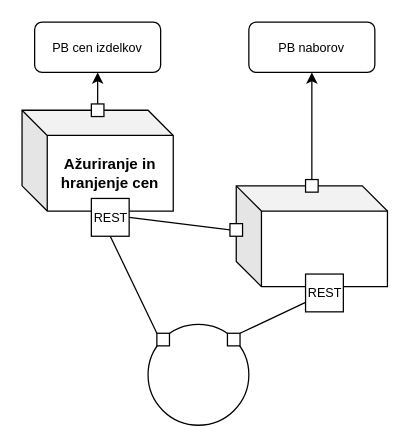
Image size: 410x447. Some labels were removed from this diagram. Each missing label, with the box of its shape:
Odjemalec: (147, 323, 249, 425)
Upravljanje naborov: (235, 185, 387, 287)
